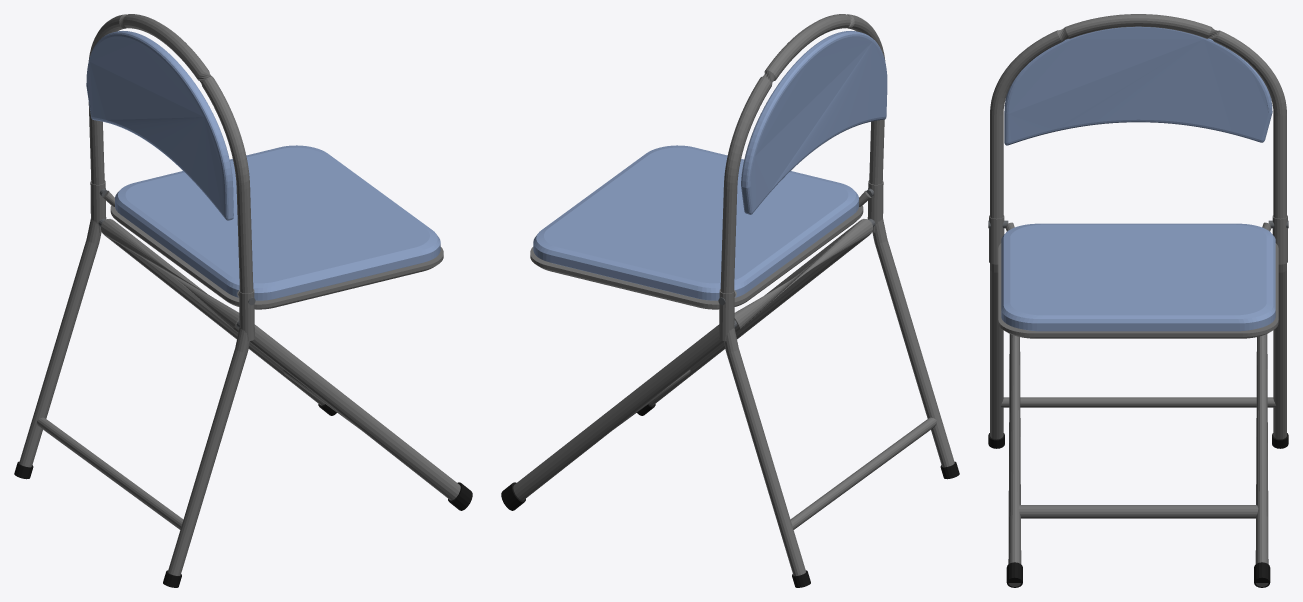
3 views of the same model, side by side, from view 1: azimuth 30°, elevation 25°; view 2: azimuth 150°, elevation 25°; view 3: azimuth 270°, elevation 25° (orthographic). The views are drawn at different scales.
Visible parts, largest first — view 1: visual_part_001_0_2, visual_part_000_0_2, visual_part_000_0_1, visual_part_002_0_2, visual_part_001_0_1; view 2: visual_part_001_0_2, visual_part_000_0_2, visual_part_000_0_1, visual_part_002_0_2, visual_part_001_0_1; view 3: visual_part_001_0_2, visual_part_000_0_1, visual_part_000_0_2, visual_part_002_0_2, visual_part_001_0_1, visual_part_002_0_1.
Part boxes in pixels (box(x1,y1,x2,y2)): visual_part_001_0_2: box(115, 145, 440, 300); visual_part_000_0_2: box(19, 14, 254, 575); visual_part_000_0_1: box(86, 31, 233, 220); visual_part_002_0_2: box(101, 219, 460, 500); visual_part_001_0_1: box(102, 190, 443, 309); visual_part_001_0_2: box(533, 145, 858, 300); visual_part_000_0_2: box(719, 14, 954, 575); visual_part_000_0_1: box(741, 31, 887, 214); visual_part_002_0_2: box(513, 219, 872, 500); visual_part_001_0_1: box(530, 190, 871, 309); visual_part_001_0_2: box(1001, 223, 1275, 331); visual_part_000_0_1: box(1004, 26, 1272, 145); visual_part_000_0_2: box(989, 14, 1287, 439); visual_part_002_0_2: box(1008, 334, 1268, 586); visual_part_001_0_1: box(998, 222, 1278, 338); visual_part_002_0_1: box(1006, 562, 1270, 587).
Bounding box in the file's own units: 0.539 × 0.7964 × 0.464.
